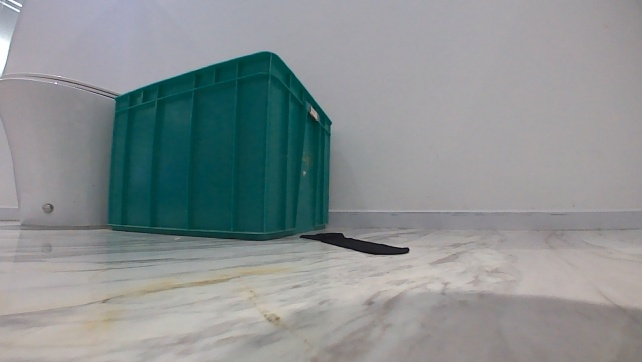socks: (298, 230, 410, 257)
toilet: (0, 69, 121, 231)
